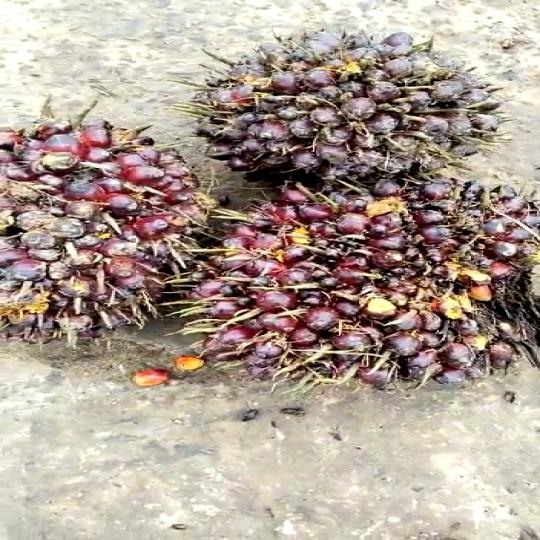kurang masak: (180, 177, 528, 392), (0, 100, 246, 326), (198, 26, 494, 190)
